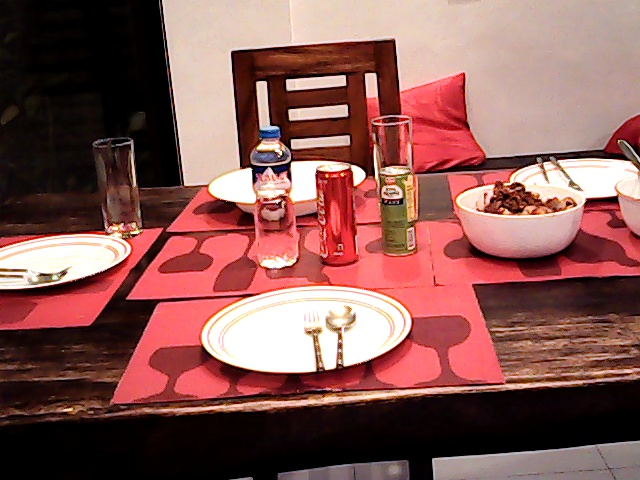Cola: (311, 161, 365, 272)
Pine Juice: (370, 160, 426, 266)
Summit Water: (246, 124, 305, 276)
